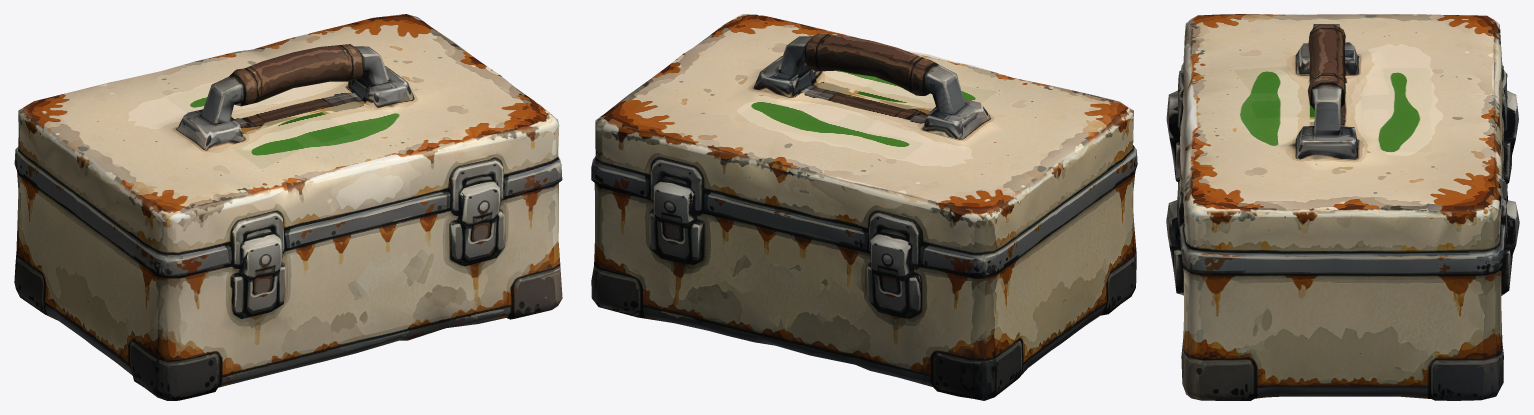
File: Loot_MedicalCase_Closed.fbx
The picture shows the model from 3 angles, left to right: view 1: azimuth 30°, elevation 25°; view 2: azimuth 150°, elevation 25°; view 3: azimuth 270°, elevation 25°; orthographic projection. The views are drawn at different scales.
Visible parts, largest first — view 1: texture_mapping; view 2: texture_mapping; view 3: texture_mapping.
Part boxes in pixels (x1,y1,x2,y2): texture_mapping: (14, 14, 562, 400); texture_mapping: (591, 14, 1137, 400); texture_mapping: (1166, 14, 1519, 400).
Size of the model in its own units: 0.9985 by 0.7392 by 0.6009.
1 material, 1 textured.
